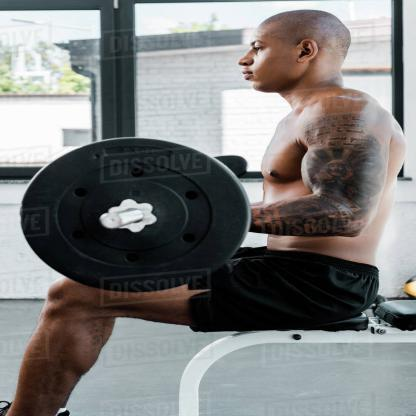barbell: (19, 134, 252, 294)
